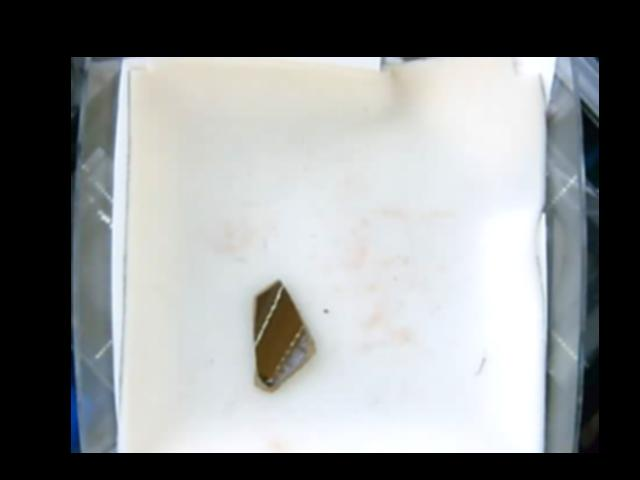China: (251, 278, 318, 392)
